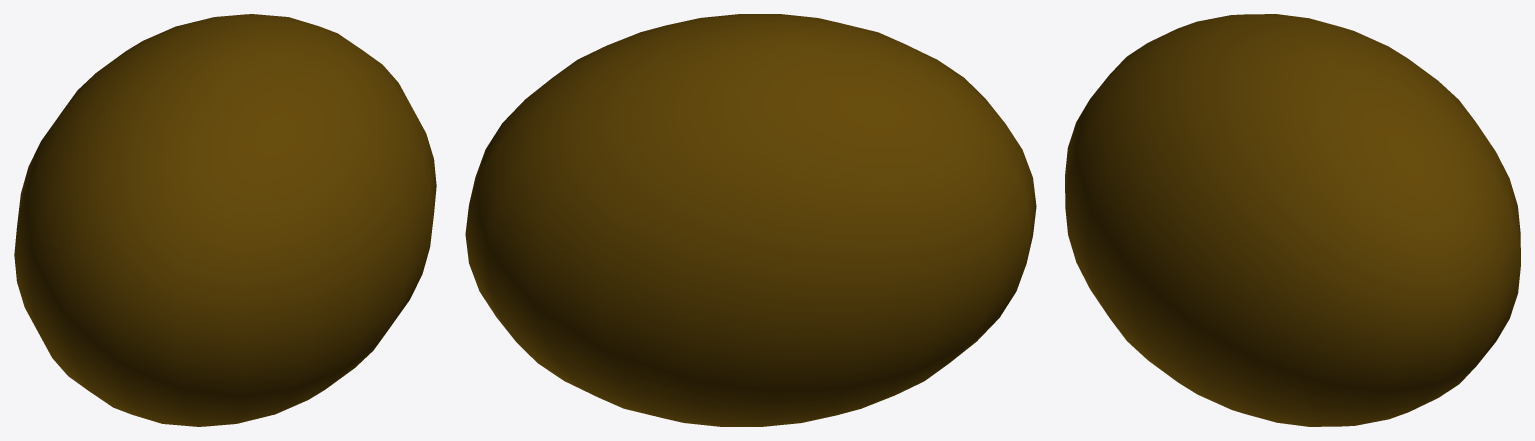
File: BaldingHair.fbx
3 views of the same model, side by side, from view 1: azimuth 30°, elevation 25°; view 2: azimuth 150°, elevation 25°; view 3: azimuth 270°, elevation 25° (orthographic). The views are drawn at different scales.
Visible parts, largest first — view 1: BaldingHair; view 2: BaldingHair; view 3: BaldingHair.
Part boxes in pixels (left/top/right/bottom): BaldingHair: left=14, top=14, right=436, bottom=426; BaldingHair: left=465, top=14, right=1036, bottom=426; BaldingHair: left=1065, top=14, right=1520, bottom=426.
Bounding box in the file's own units: 8.3 × 6.54 × 7.59.
